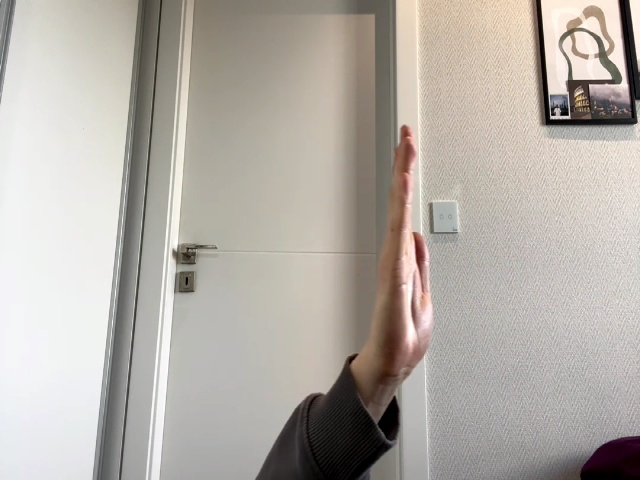SZ: (370, 125, 434, 368)
